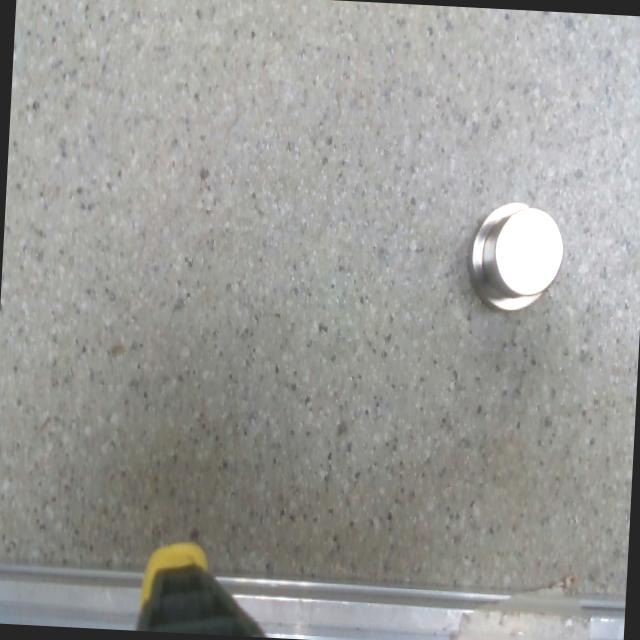sensor: (466, 196, 568, 314)
